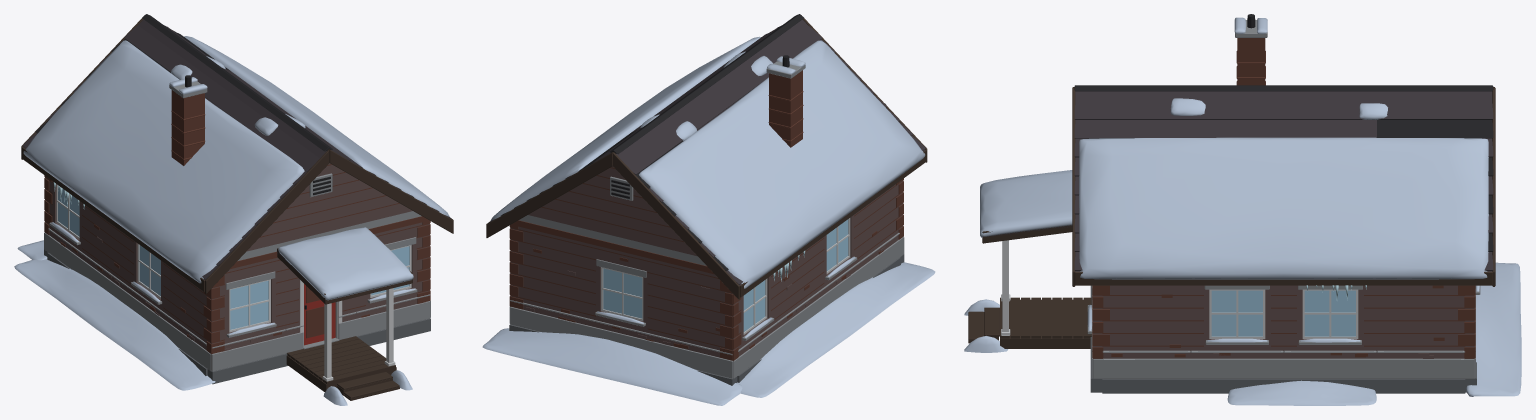
Rendered from house_small_B.glb.
3 renders of one model, left to right at view 1: azimuth 30°, elevation 25°; view 2: azimuth 150°, elevation 25°; view 3: azimuth 270°, elevation 25°, orthographic. The views are drawn at different scales.
Parts seen in each view (by area): view 1: Roof, Floor0, Walls0_S, Walls0_W, Walls0_S_Stub, Window_0, Door_0, Walls0_W_Stub, Window_5, Window_6, Walls0_N; view 2: Roof, Walls0_N, Floor0, Walls0_W, Window_2, Walls0_W_Stub, Walls0_N_Stub, Window_5, Window_6, Walls0_S; view 3: Roof, Walls0_E, Floor0, Window_3, Window_4, Walls0_S, Walls0_E_Stub, Walls0_N.
Boxes of the visible parts, x1,y1,x2,y2 form: Roof: (21, 14, 453, 304); Floor0: (14, 240, 430, 405); Walls0_S: (203, 216, 430, 371); Walls0_W: (48, 180, 207, 367); Walls0_S_Stub: (206, 294, 430, 370); Window_0: (230, 280, 268, 329); Door_0: (304, 284, 335, 345); Walls0_W_Stub: (48, 228, 206, 349); Window_5: (139, 245, 160, 296); Window_6: (58, 187, 79, 236); Walls0_N: (44, 175, 52, 252); Roof: (486, 14, 927, 299); Walls0_N: (509, 220, 741, 378); Floor0: (482, 254, 935, 405); Walls0_W: (737, 183, 899, 374); Window_2: (603, 268, 642, 318); Walls0_W_Stub: (738, 233, 899, 355); Walls0_N_Stub: (509, 300, 738, 360); Window_5: (826, 219, 848, 271); Window_6: (743, 280, 765, 331); Walls0_S: (896, 178, 904, 255); Roof: (980, 14, 1495, 300); Walls0_E: (1102, 285, 1465, 378); Floor0: (964, 240, 1521, 405); Window_3: (1211, 290, 1262, 336); Window_4: (1304, 290, 1355, 336); Walls0_S: (1087, 285, 1109, 378); Walls0_E_Stub: (1102, 350, 1464, 358); Walls0_N: (1458, 285, 1480, 378).
Size of what is drawn, in the model's own units: 7.87 by 6.66 by 11.99.
